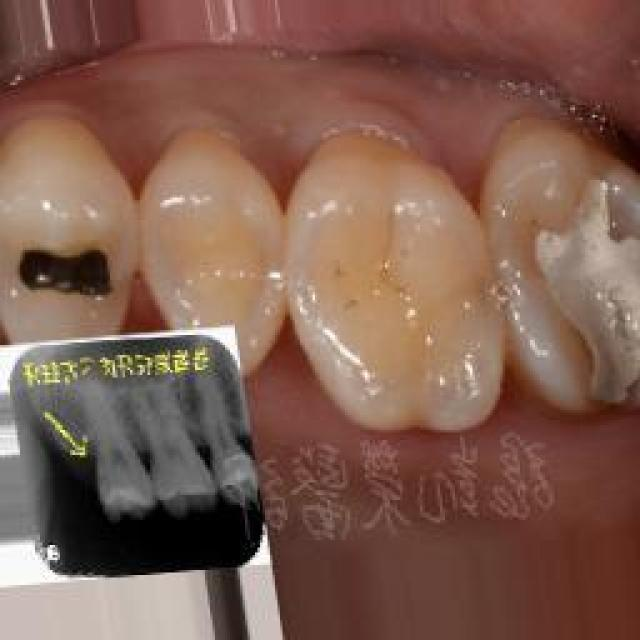caries: (540, 188, 640, 403), (13, 235, 116, 303)
